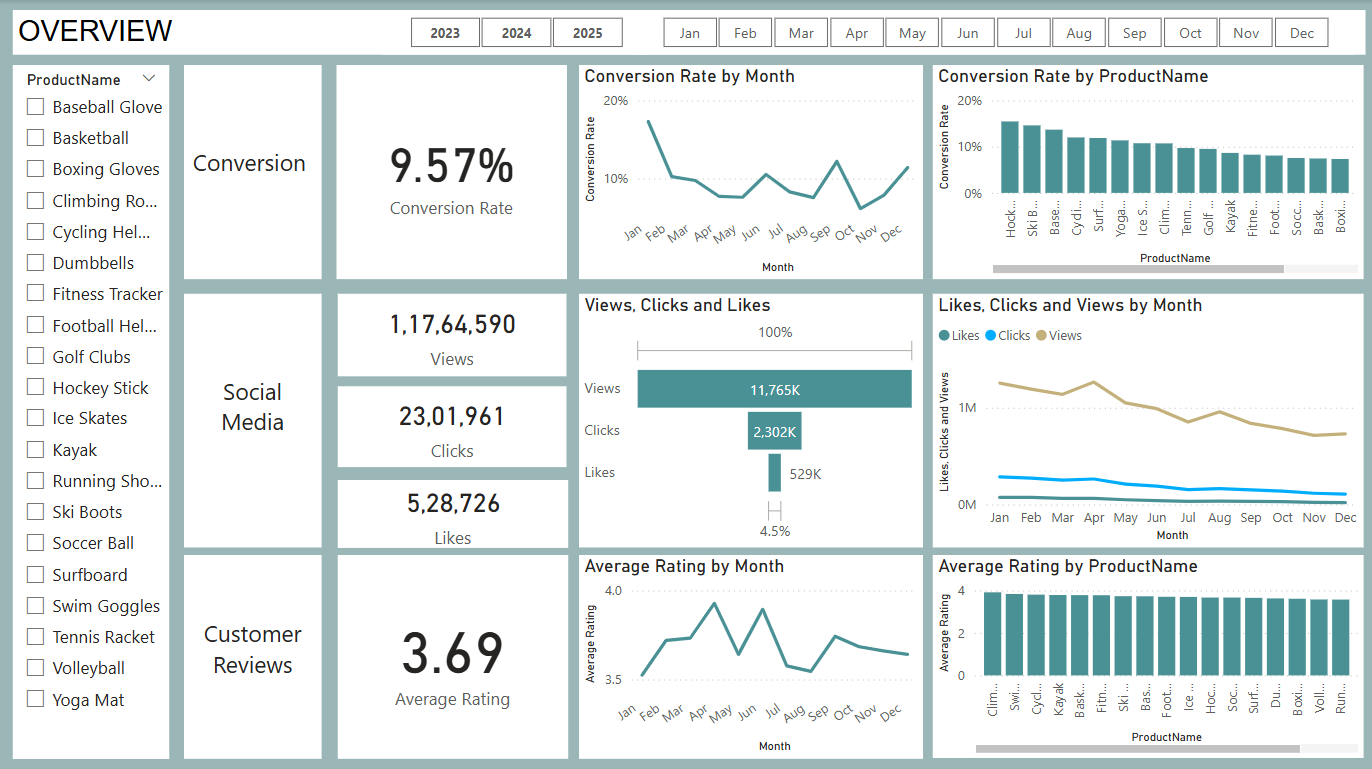

Layout of this report page (visuals, bound fields, positions):
{"tool":"powerbi","page":{"name":"OVERVIEW","canvas":[1280,720],"ordinal":0},"visuals":[{"type":"textbox","box":[12.2,9.8,1258.3,41.6],"z":0},{"type":"slicer","fields":{"Values":["Calendar.Year"]},"box":[357.1,9.8,247,41.6],"z":1000},{"type":"slicer","fields":{"Values":["Calendar.MonthNameShort"]},"box":[591.9,9.8,668.9,41.6],"z":2000},{"type":"slicer","fields":{"Values":["dim_products.ProductName"]},"box":[12.2,59.9,145.5,645.7],"z":3000},{"type":"textbox","box":[171.5,60.4,127.6,199],"z":4000},{"type":"textbox","box":[171.5,273.1,127.6,236],"z":5000},{"type":"textbox","box":[171.5,516,127.6,189.4],"z":6000},{"type":"card","fields":{"Values":["Calculations.Conversion Rate"]},"box":[314.2,60.4,214.1,199],"z":7000},{"type":"card","fields":{"Values":["Calculations.Clicks"]},"box":[315.6,359.5,212.7,75.5],"z":8000},{"type":"card","fields":{"Values":["Calculations.Likes"]},"box":[315.6,446,214.1,63.1],"z":9000},{"type":"card","fields":{"Values":["Calculations.Views"]},"box":[315.6,273.1,212.7,76.8],"z":10000},{"type":"card","fields":{"Values":["Calculations.Average Rating"]},"box":[315.6,516,214.1,189.4],"z":11000},{"type":"lineChart","fields":{"Category":["Calendar.MonthNameShort"],"Y":["Calculations.Conversion Rate"]},"box":[539.3,60.4,319.7,199],"z":12000},{"type":"clusteredColumnChart","fields":{"Y":["Calculations.Conversion Rate"],"Category":["dim_products.ProductName"]},"box":[868.6,60.4,400.7,199],"z":13000},{"type":"lineChart","fields":{"Y":["Calculations.Likes","Calculations.Clicks","Calculations.Views"],"Category":["Calendar.MonthNameShort"]},"box":[868.6,273.1,400.7,236],"z":14000},{"type":"funnel","fields":{"Y":["Calculations.Views","Calculations.Clicks","Calculations.Likes"]},"box":[539.3,273.1,319.7,236],"z":15000},{"type":"lineChart","fields":{"Category":["Calendar.MonthNameShort"],"Y":["Calculations.Average Rating"]},"box":[539.3,516,319.7,189.4],"z":16000},{"type":"clusteredColumnChart","fields":{"Y":["Calculations.Average Rating"],"Category":["dim_products.ProductName"]},"box":[869,516,401,189],"z":17000}]}

Visuals, with their boxes in screenshot pixels (x1, y1, x2, y2), scaled from the page's 1280x720 canvas onto the 1372x769 screenshot:
textbox: x1=13, y1=10, x2=1362, y2=55
slicer - Calendar.Year: x1=383, y1=10, x2=648, y2=55
slicer - Calendar.MonthNameShort: x1=634, y1=10, x2=1351, y2=55
slicer - dim_products.ProductName: x1=13, y1=64, x2=169, y2=754
textbox: x1=184, y1=65, x2=321, y2=277
textbox: x1=184, y1=292, x2=321, y2=544
textbox: x1=184, y1=551, x2=321, y2=753
card - Calculations.Conversion Rate: x1=337, y1=65, x2=566, y2=277
card - Calculations.Clicks: x1=338, y1=384, x2=566, y2=465
card - Calculations.Likes: x1=338, y1=476, x2=568, y2=544
card - Calculations.Views: x1=338, y1=292, x2=566, y2=374
card - Calculations.Average Rating: x1=338, y1=551, x2=568, y2=753
lineChart - Calendar.MonthNameShort x Calculations.Conversion Rate: x1=578, y1=65, x2=921, y2=277
clusteredColumnChart - Calculations.Conversion Rate x dim_products.ProductName: x1=931, y1=65, x2=1361, y2=277
lineChart - Calculations.Likes x Calculations.Clicks: x1=931, y1=292, x2=1361, y2=544
funnel - Calculations.Views x Calculations.Clicks: x1=578, y1=292, x2=921, y2=544
lineChart - Calendar.MonthNameShort x Calculations.Average Rating: x1=578, y1=551, x2=921, y2=753
clusteredColumnChart - Calculations.Average Rating x dim_products.ProductName: x1=931, y1=551, x2=1361, y2=753
